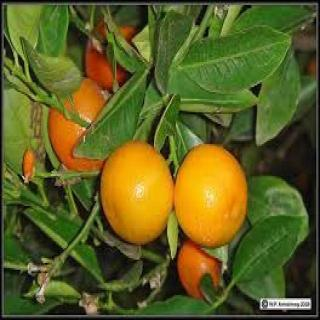orange: (87, 115, 174, 262), (179, 134, 244, 242)
